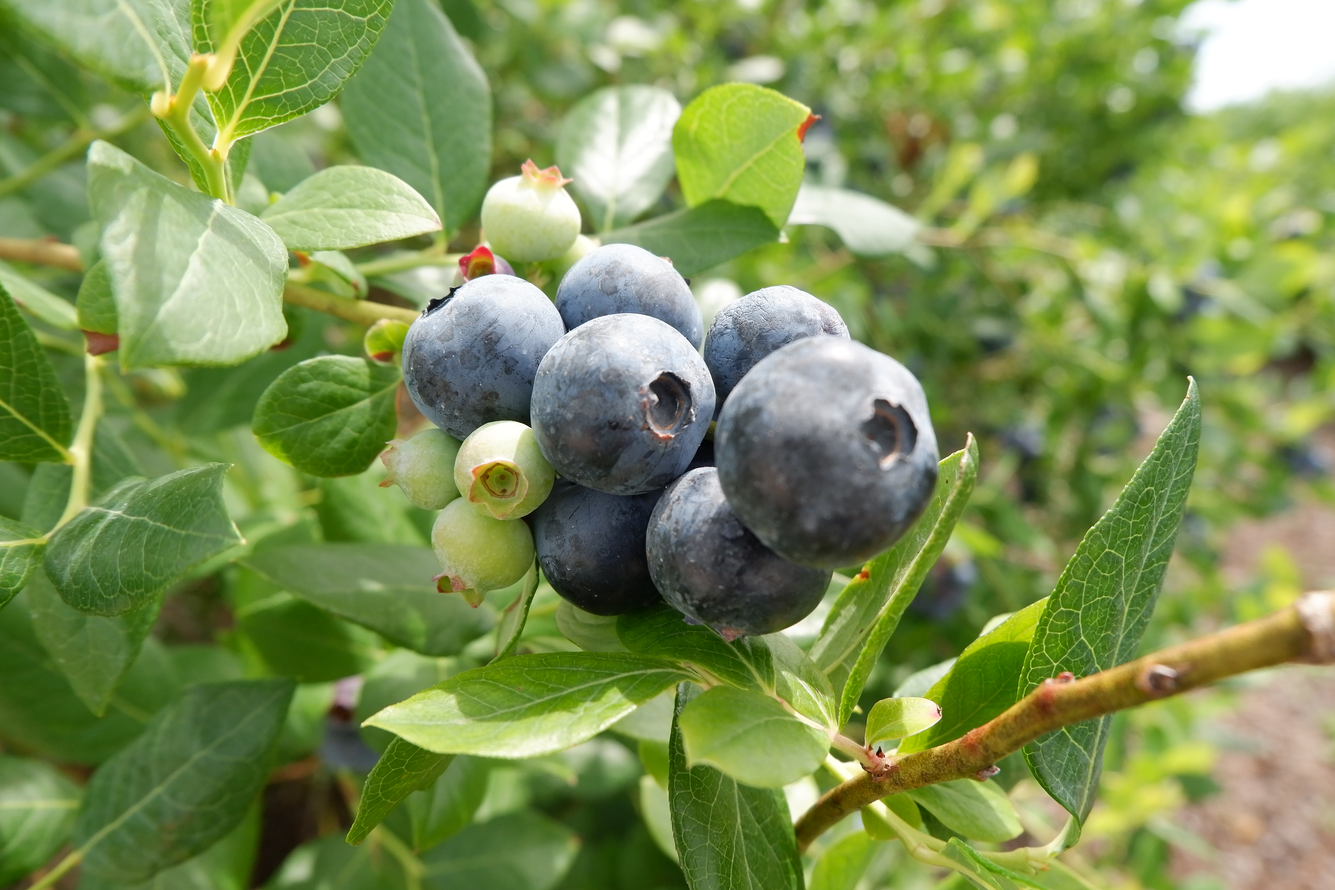Immature: (432, 498, 535, 607), (483, 161, 578, 260), (455, 425, 552, 517), (380, 431, 462, 508), (540, 235, 602, 305), (453, 244, 515, 288)
Mature: (715, 340, 938, 569), (533, 315, 716, 491), (648, 469, 829, 637), (404, 275, 565, 433), (703, 289, 848, 406), (531, 481, 657, 612), (558, 246, 703, 350)
